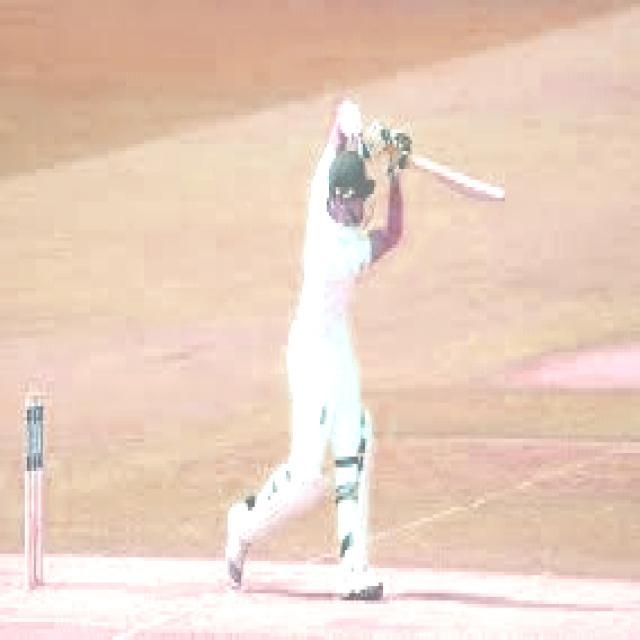bat: (398, 150, 514, 213)
toe: (489, 188, 512, 206)
